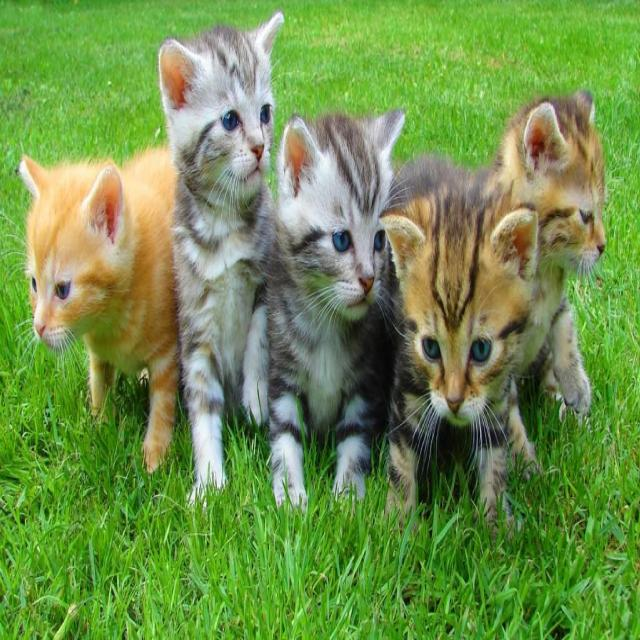cat: (80, 88, 574, 464)
